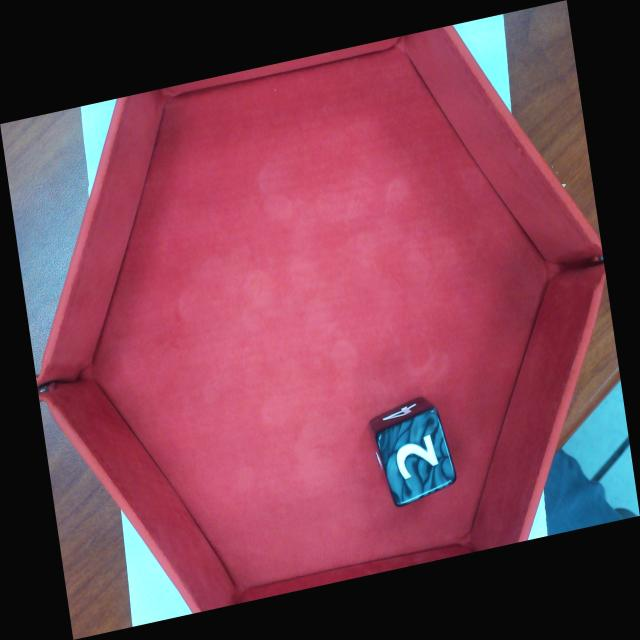dice: (374, 407, 457, 509)
